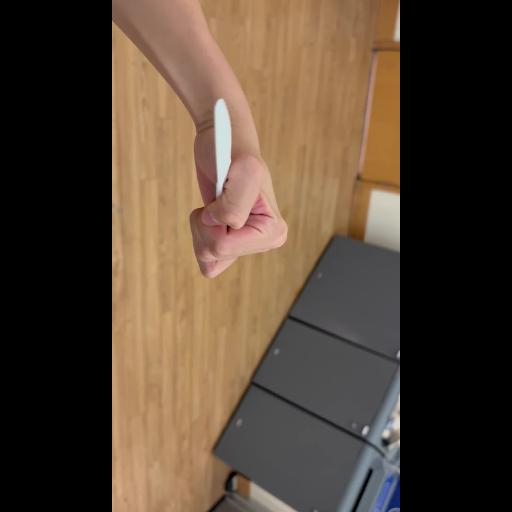utensil: (194, 82, 244, 220)
